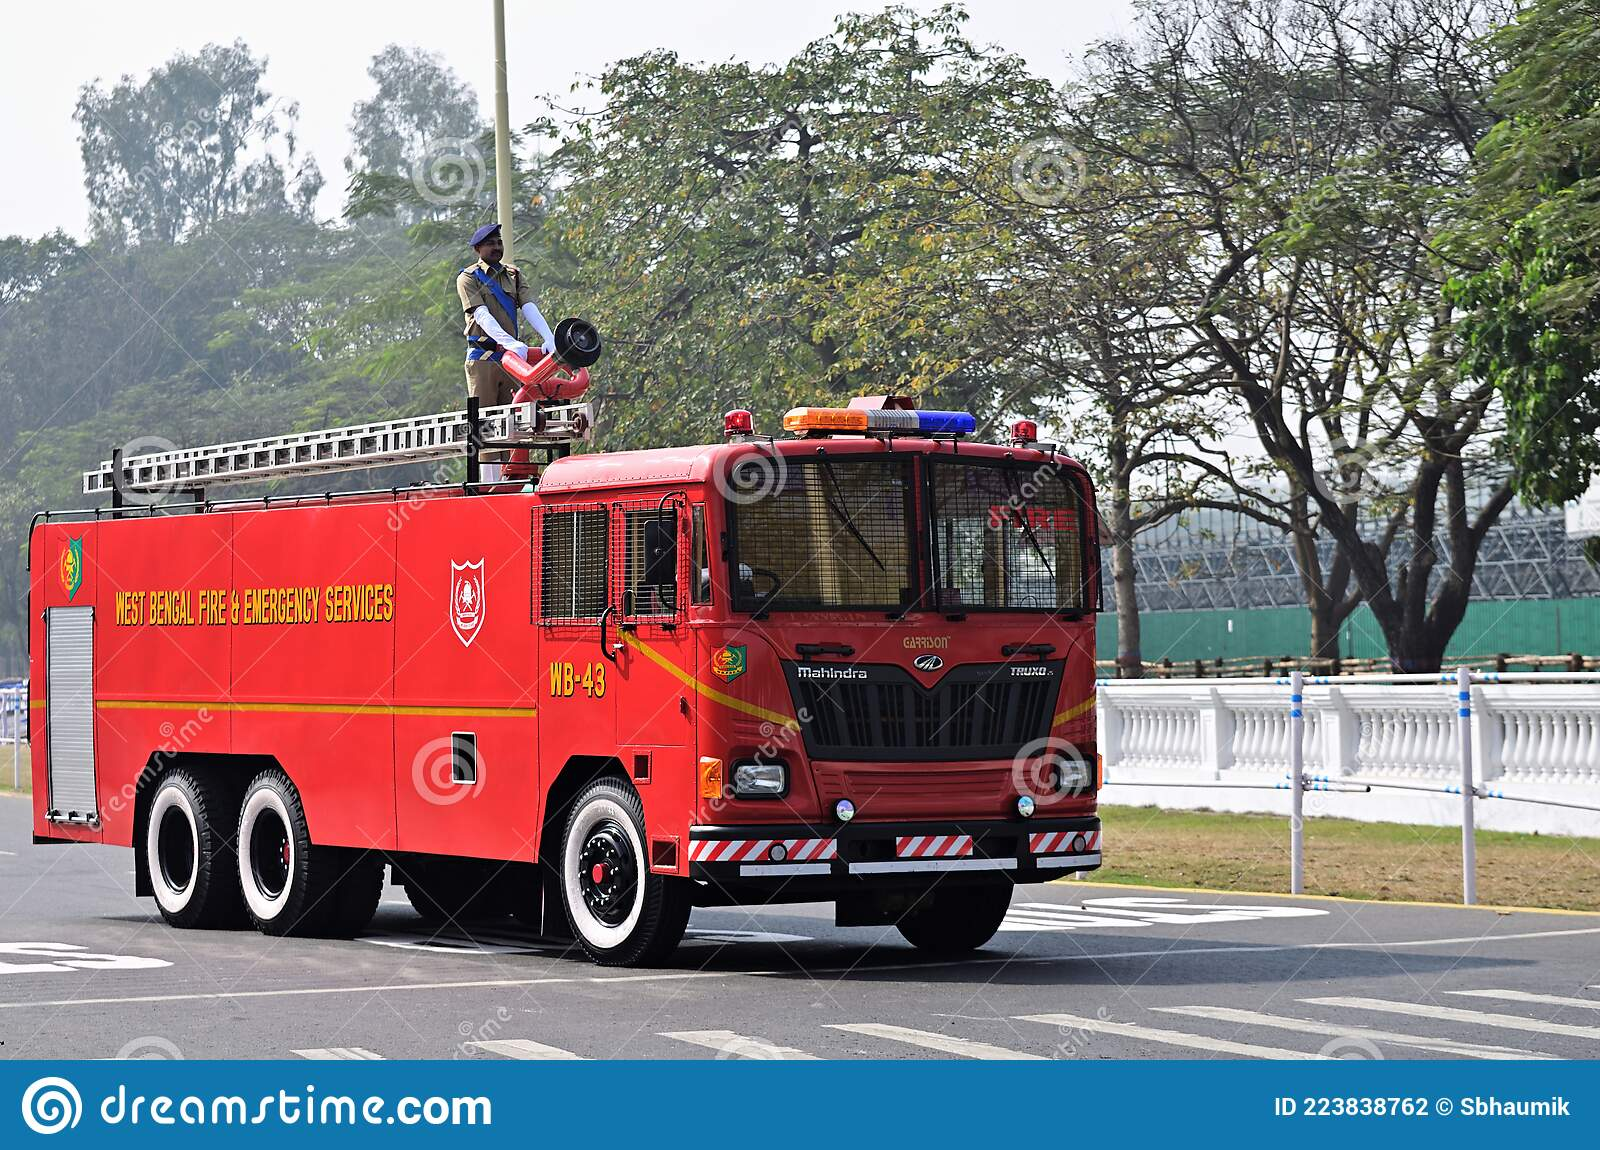fire engine: (48, 376, 1135, 970)
